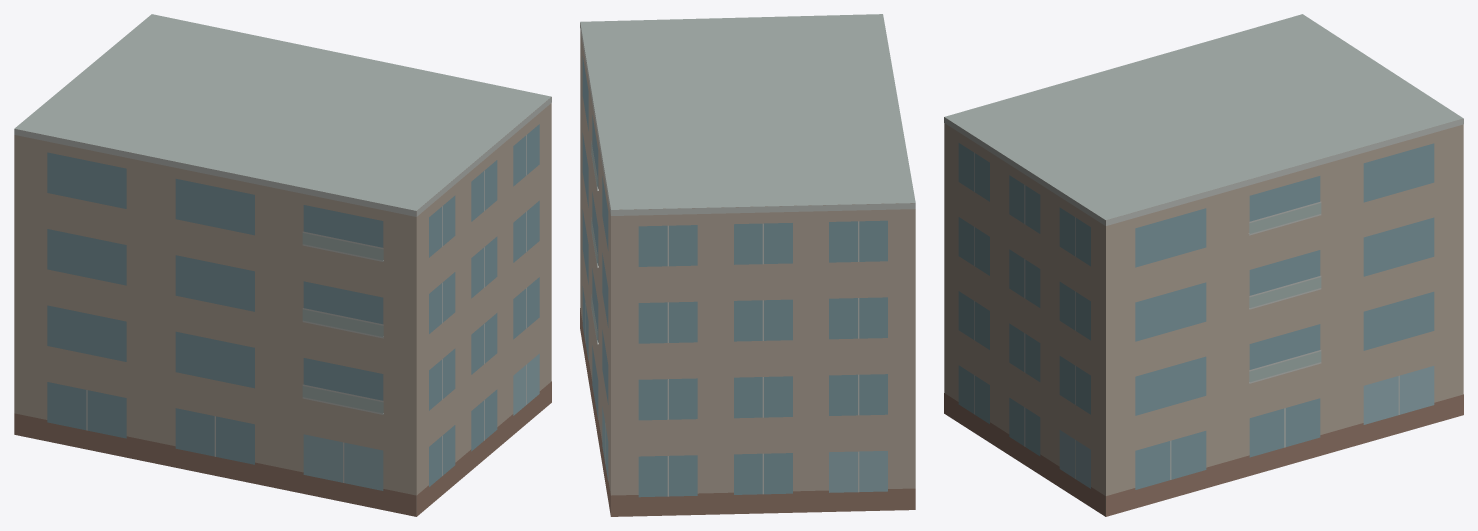
Rendered from survey-upis-32604330.glb.
3 renders of one model, left to right at view 1: azimuth 30°, elevation 25°; view 2: azimuth 150°, elevation 25°; view 3: azimuth 270°, elevation 25°, orthographic. The views are drawn at different scales.
Visible parts, largest first — view 1: survey-upis-32604330.tmp; view 2: survey-upis-32604330.tmp; view 3: survey-upis-32604330.tmp.
Boxes of the visible parts, x1,y1,x2,y2 form: survey-upis-32604330.tmp: (14, 14, 551, 516); survey-upis-32604330.tmp: (580, 14, 915, 516); survey-upis-32604330.tmp: (944, 14, 1463, 516).
Size of the model in its own units: 18.2 by 12.2 by 19.38.
